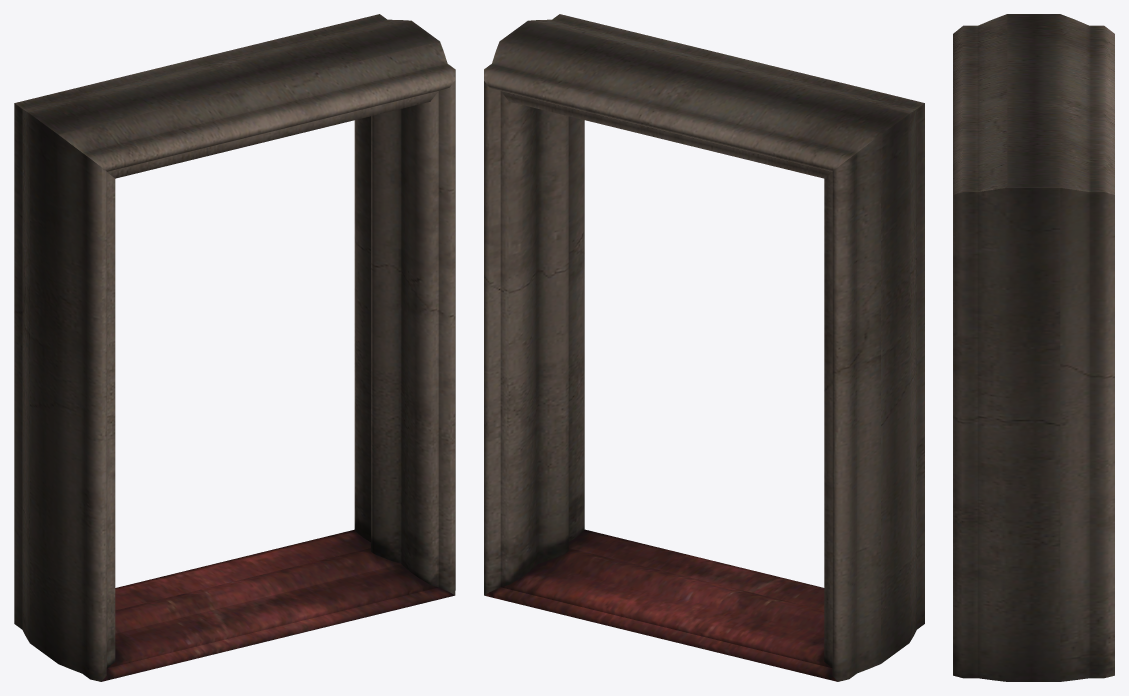
The model's file is 42_door_frame.dae.
The picture shows the model from 3 angles, left to right: view 1: azimuth 30°, elevation 25°; view 2: azimuth 150°, elevation 25°; view 3: azimuth 270°, elevation 25°; orthographic projection. The views are drawn at different scales.
Visible parts, largest first — view 1: mansionbase_doorframe; view 2: mansionbase_doorframe; view 3: mansionbase_doorframe.
Boxes of the visible parts, bbox=[...] form: mansionbase_doorframe: bbox=[14, 14, 455, 681]; mansionbase_doorframe: bbox=[484, 14, 924, 681]; mansionbase_doorframe: bbox=[953, 14, 1114, 681].
Bounding box in the file's own units: 2.42 × 3.21 × 0.9526.
Materials: 1 (1 with a texture image).
